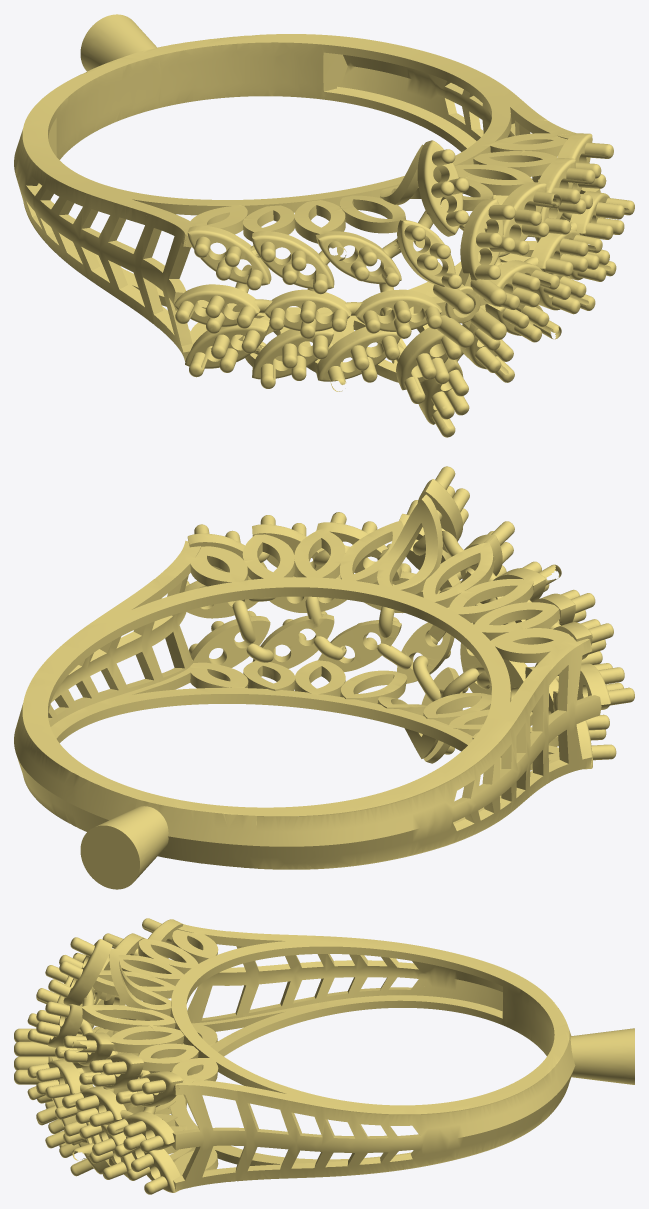
The model's file is yzk01.glb.
The picture shows the model from 3 angles, top to bottom: view 1: azimuth 30°, elevation 25°; view 2: azimuth 150°, elevation 25°; view 3: azimuth 270°, elevation 25°; orthographic projection. The views are drawn at different scales.
Visible parts, largest first — view 1: Renderer Node; view 2: Renderer Node; view 3: Renderer Node.
Part boxes in pixels (bbox=[...]): Renderer Node: bbox=[14, 14, 634, 437]; Renderer Node: bbox=[14, 466, 634, 889]; Renderer Node: bbox=[14, 918, 634, 1194].
Bounding box in the file's own units: 23.3 × 13.95 × 33.02.
